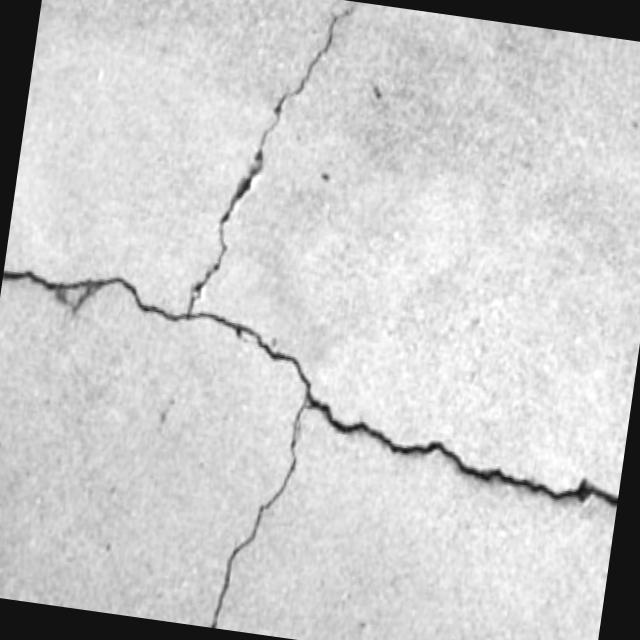crack: (168, 314, 634, 513), (188, 0, 358, 331), (208, 403, 308, 634), (0, 259, 190, 336)
